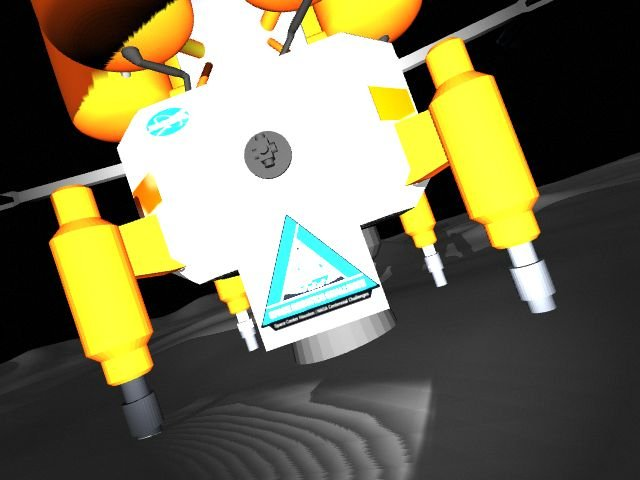basemarker: (261, 214, 381, 331)
